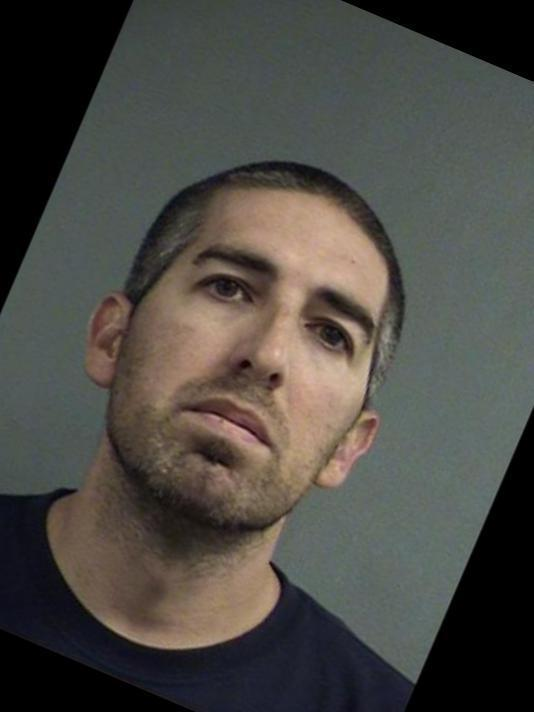Sober: (157, 192, 377, 510)
